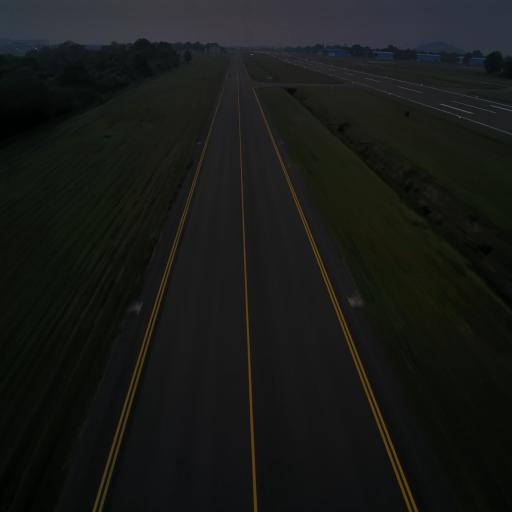on: (350, 291, 355, 304), (134, 300, 140, 308), (280, 139, 282, 143), (198, 140, 200, 142)
